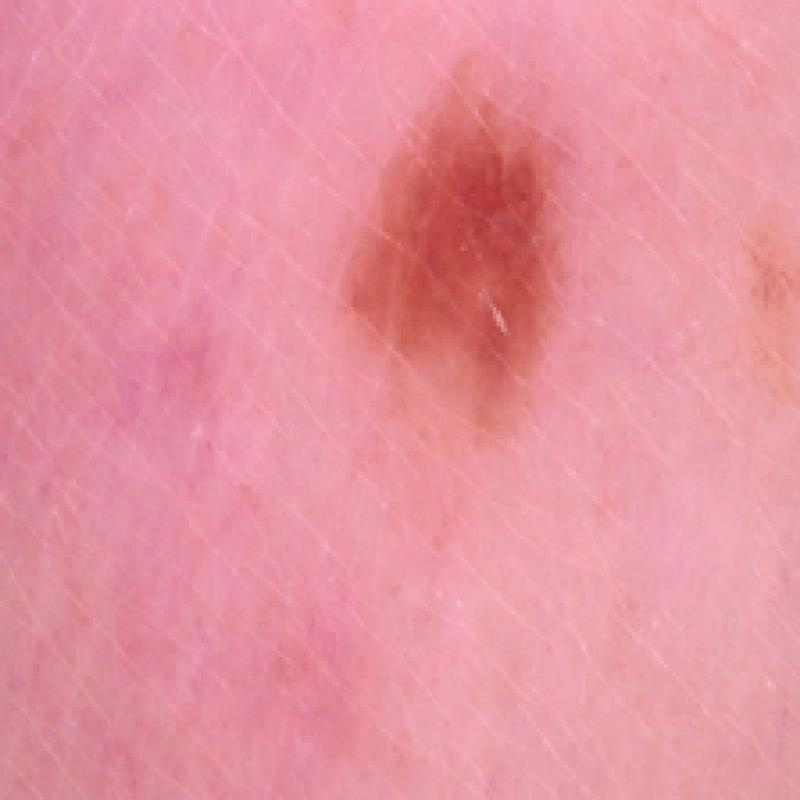benign: (333, 64, 641, 462)
